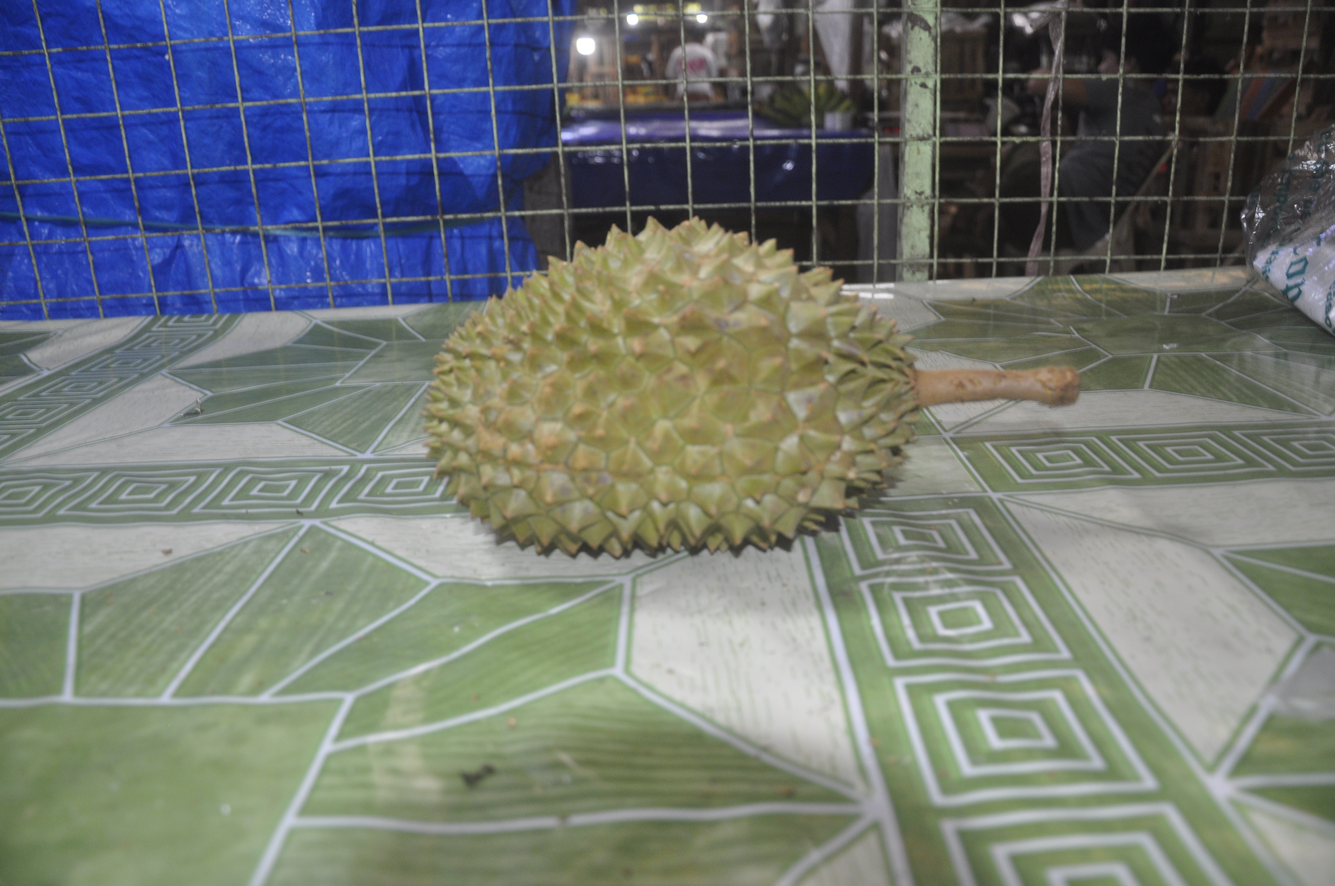mature: (426, 219, 1079, 555)
